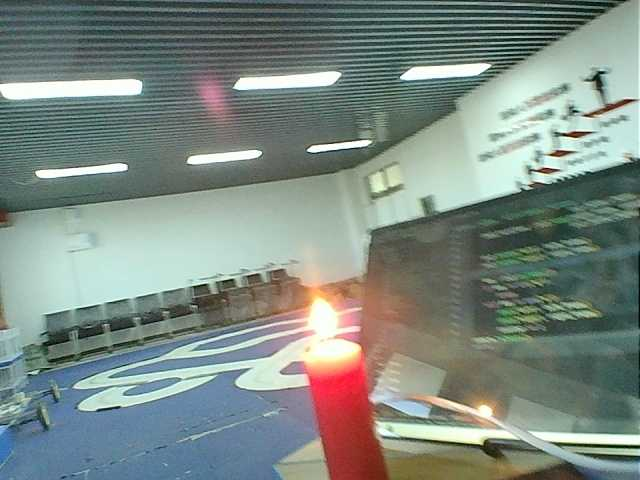candle: (297, 349, 394, 480)
fire: (296, 292, 347, 343)
